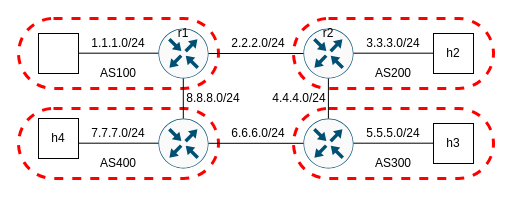
Image size: 512x197. Some labels were removed from this diagram. The shapes that lost their labels are listed below. From the top down, each one's centre as x and y in pixels, then its label:
At pixel 58 53: "h1".
At pixel 183 143: "r4".
At pixel 328 143: "r3".
